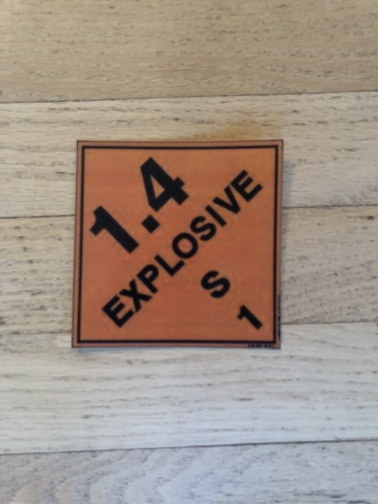Explosive: (75, 140, 279, 346)
